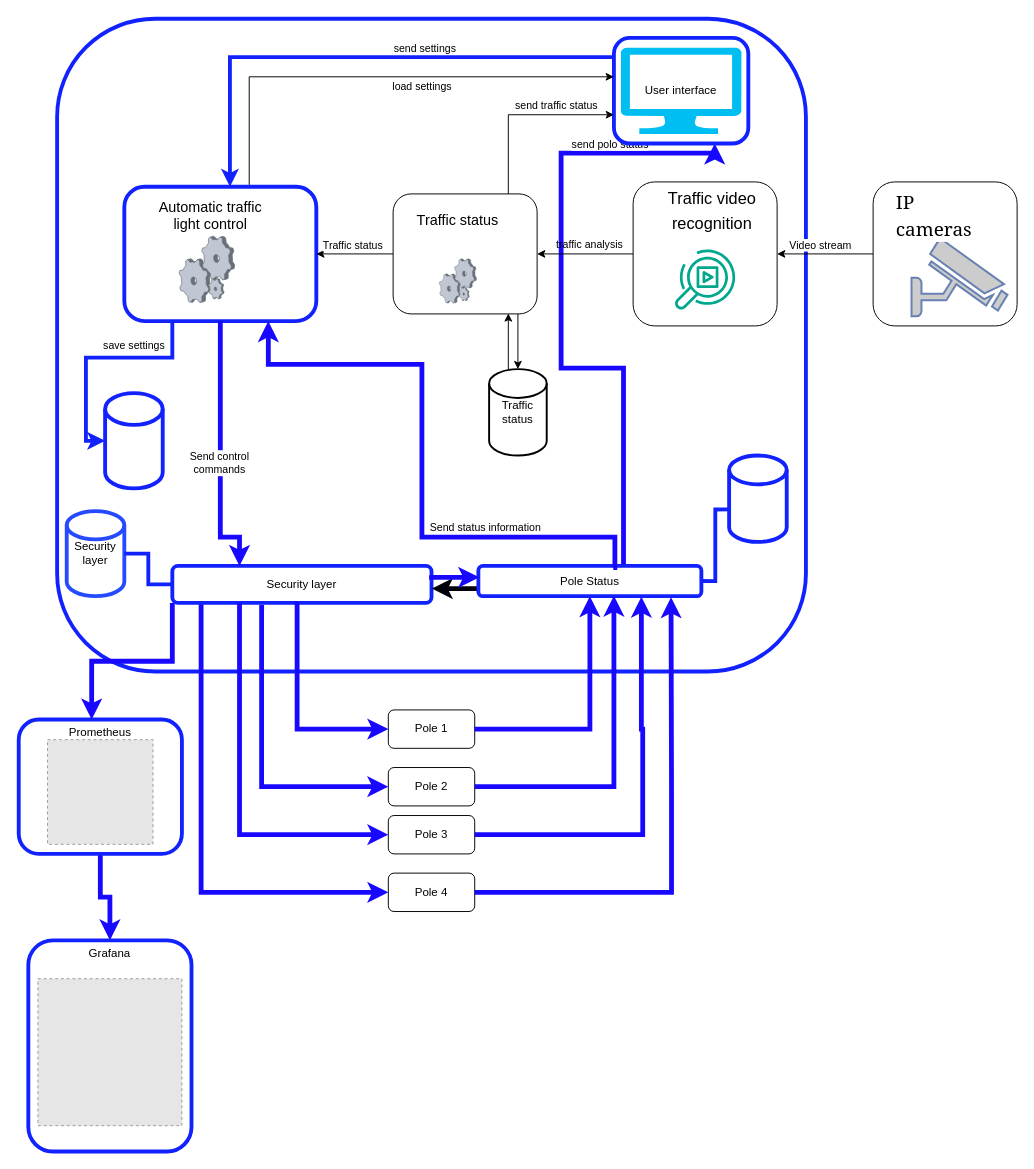
Image size: 1034x1169. Some labels were removed from this diagram. Grey dashed boxes stand in for pictures. The centre of each missing label's shape, as x and y in pixels:
control setting: [133,440]
Status database: [757,498]
